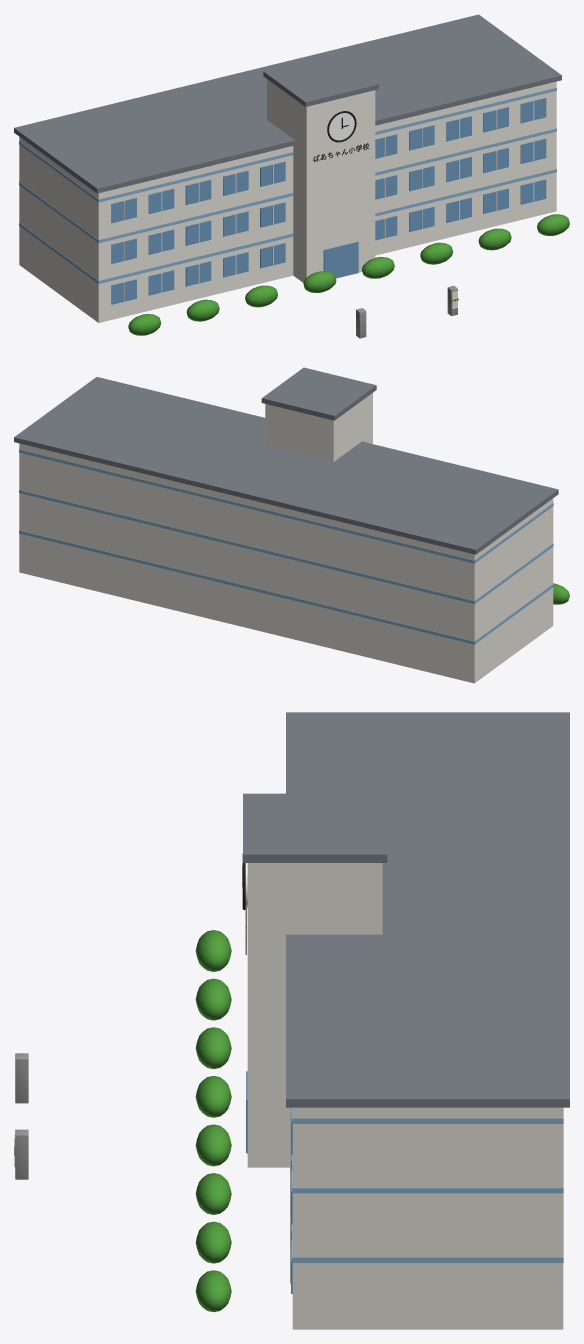
The model's file is school.glb.
3 views of the same model, one above another, from view 1: azimuth 30°, elevation 25°; view 2: azimuth 150°, elevation 25°; view 3: azimuth 270°, elevation 25° (orthographic). The views are drawn at different scales.
Parts seen in each view (by area): view 1: school_body; view 2: school_body; view 3: school_body.
Boxes of the visible parts, x1=… form: school_body: x1=14, y1=14, x2=569, y2=338; school_body: x1=14, y1=367, x2=569, y2=683; school_body: x1=14, y1=712, x2=569, y2=1329.
Size of the model in its own units: 40.6 by 15.4 by 24.65.
